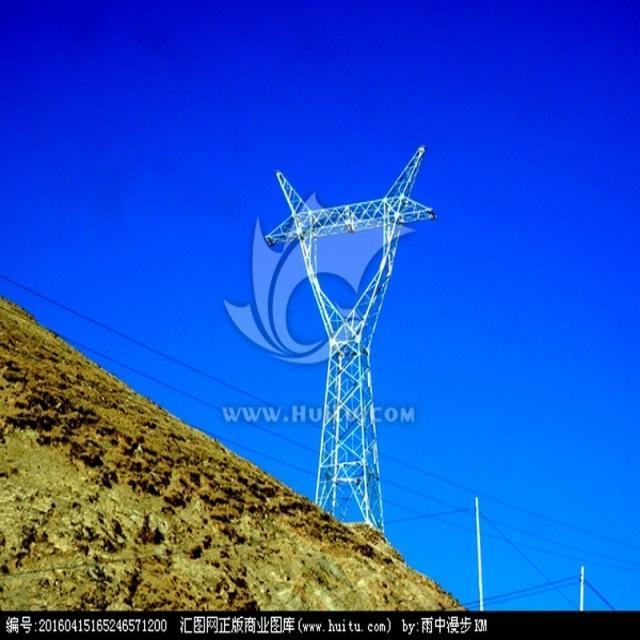non-critical vegetation: (254, 135, 446, 548)
